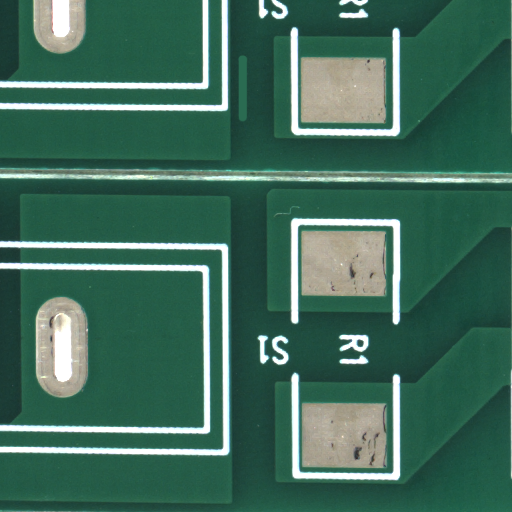Spurious_copper: (243, 87, 259, 157)
